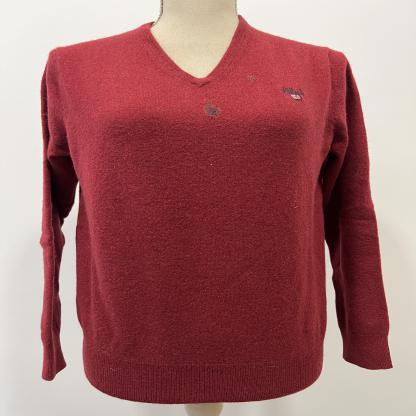stain: (197, 95, 229, 122), (240, 69, 265, 86)
